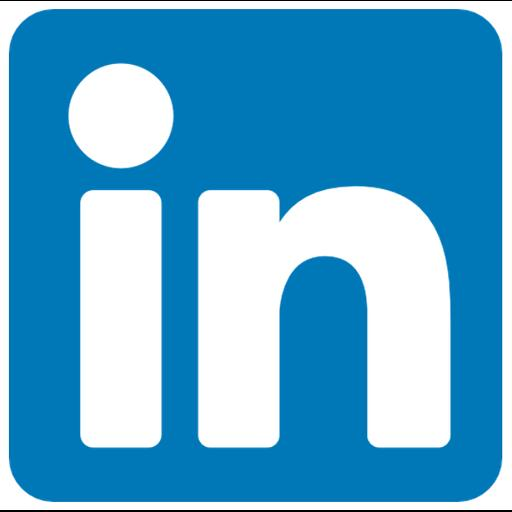LinkedIn Corporation: (0, 1, 512, 510)
